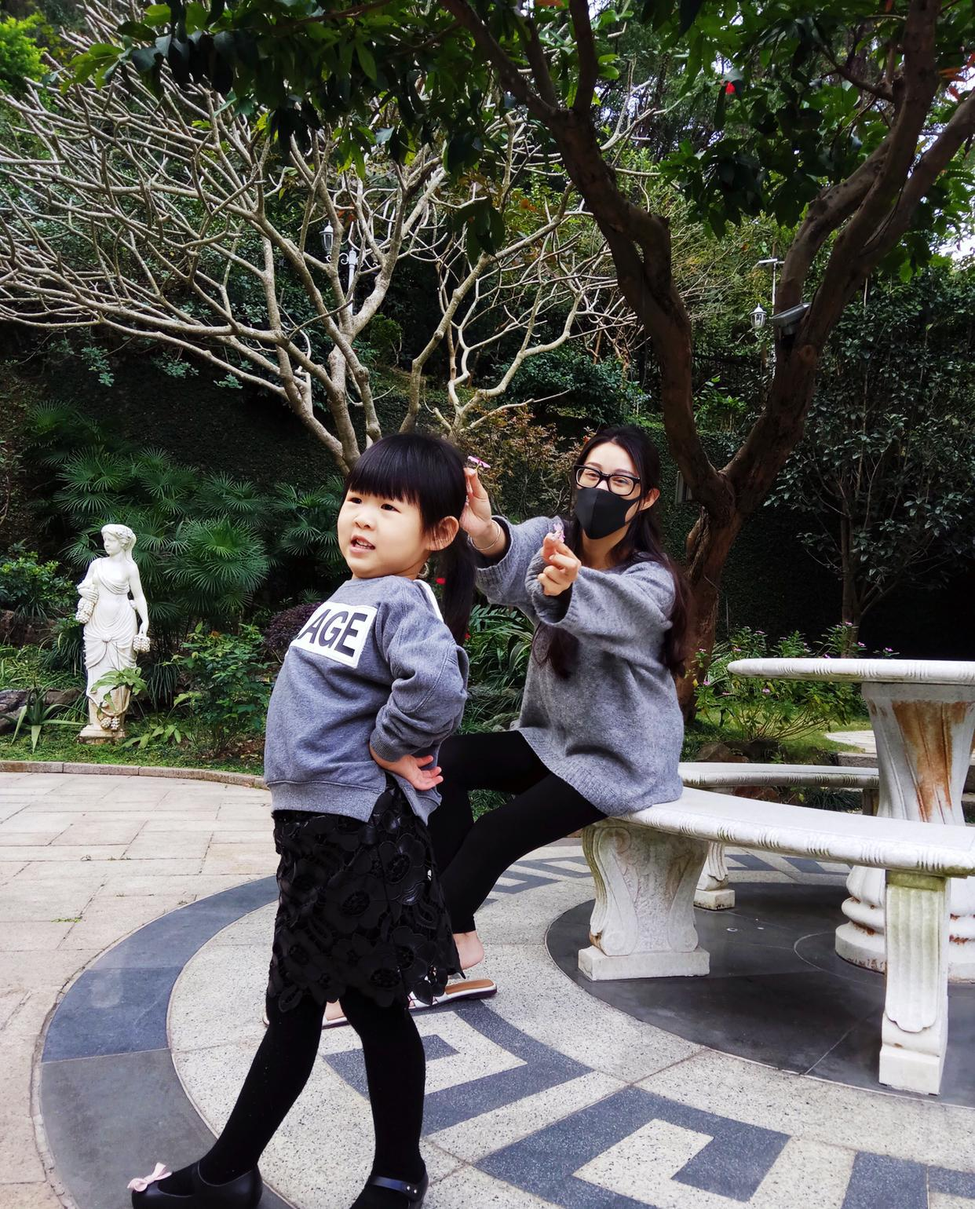NONE: (339, 490, 421, 564)
OK: (576, 458, 655, 537)
